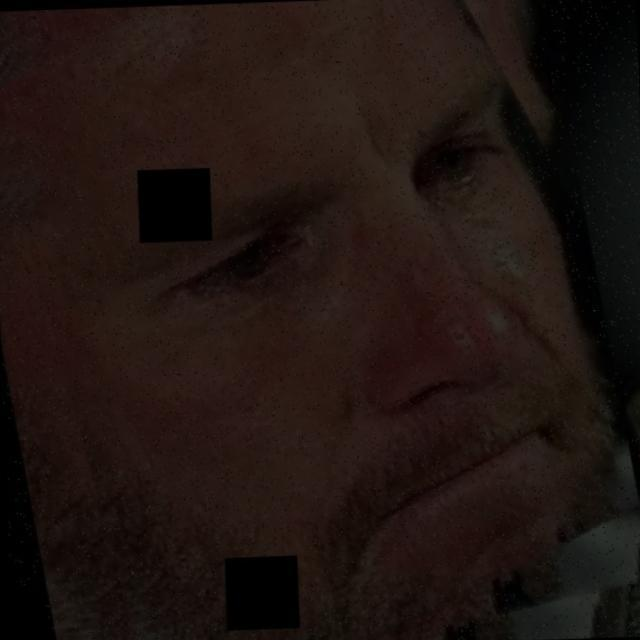sad: (83, 56, 602, 584)
